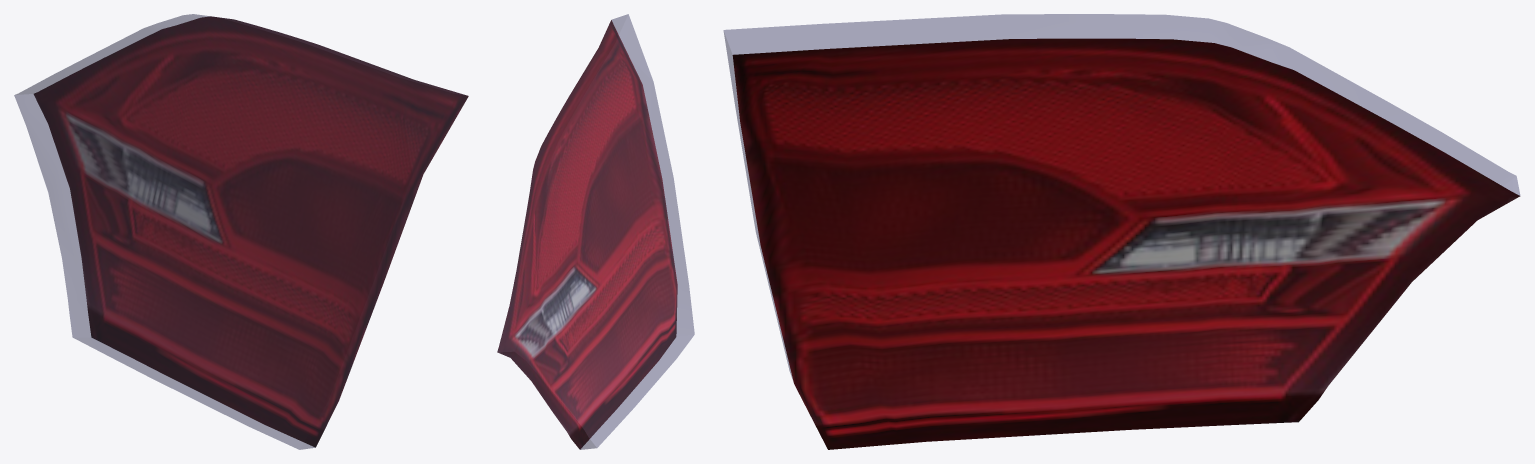
3 views of the same model, side by side, from view 1: azimuth 30°, elevation 25°; view 2: azimuth 150°, elevation 25°; view 3: azimuth 270°, elevation 25° (orthographic). The views are drawn at different scales.
Visible parts, largest first — view 1: X6166_541D_R_X6166_541D_R_2_DTaSI, X6166_541D_R_1_N_X6166_541D_R; view 2: X6166_541D_R_X6166_541D_R_2_DTaSI, X6166_541D_R_1_N_X6166_541D_R; view 3: X6166_541D_R_1_N_X6166_541D_R, X6166_541D_R_X6166_541D_R_2_DTaSI.
Part boxes in pixels (<box>): X6166_541D_R_X6166_541D_R_2_DTaSI: <box>14,14,468,449</box>; X6166_541D_R_1_N_X6166_541D_R: <box>34,16,468,447</box>; X6166_541D_R_X6166_541D_R_2_DTaSI: <box>497,14,694,449</box>; X6166_541D_R_1_N_X6166_541D_R: <box>497,20,677,449</box>; X6166_541D_R_1_N_X6166_541D_R: <box>732,38,1520,449</box>; X6166_541D_R_X6166_541D_R_2_DTaSI: <box>723,14,1520,381</box>.
Size of the model in its own units: 10.05 by 18.39 by 27.03.
